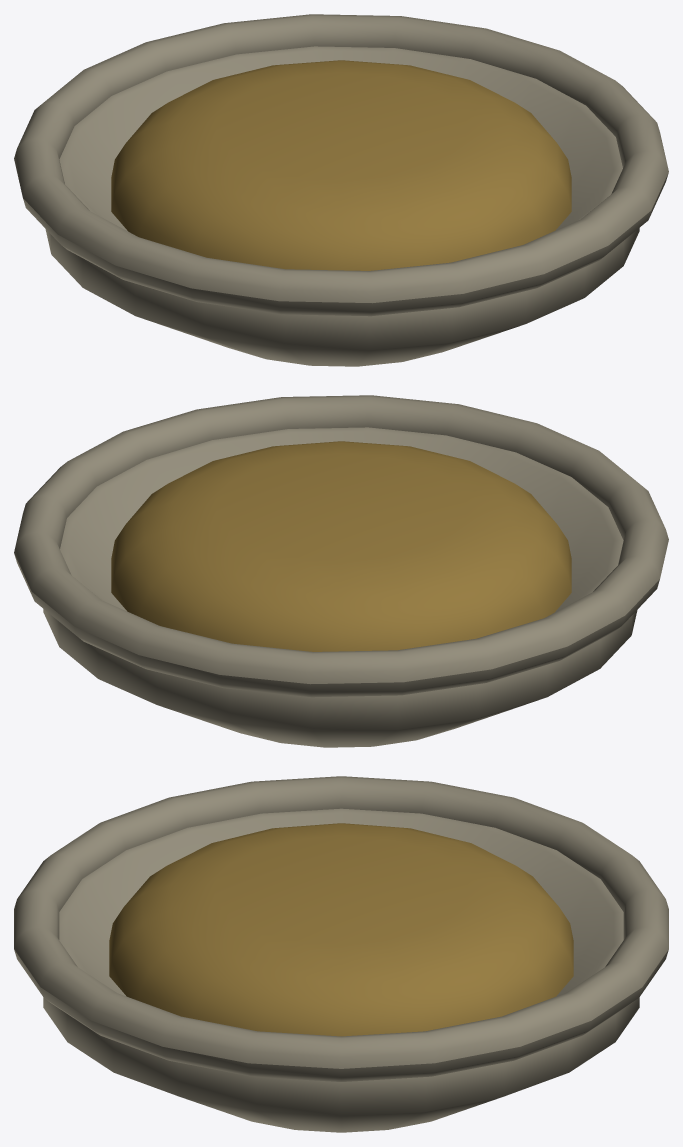
Rendered from risotto.obj.
3 views of the same model, one above another, from view 1: azimuth 30°, elevation 25°; view 2: azimuth 150°, elevation 25°; view 3: azimuth 270°, elevation 25° (orthographic).
Visible parts, largest first — view 1: risotto; view 2: risotto; view 3: risotto.
Part boxes in pixels (x1=…): risotto: x1=14, y1=14, x2=668, y2=366; risotto: x1=14, y1=395, x2=668, y2=747; risotto: x1=14, y1=776, x2=668, y2=1132.
Size of the model in its own units: 2.02 by 0.59 by 2.
